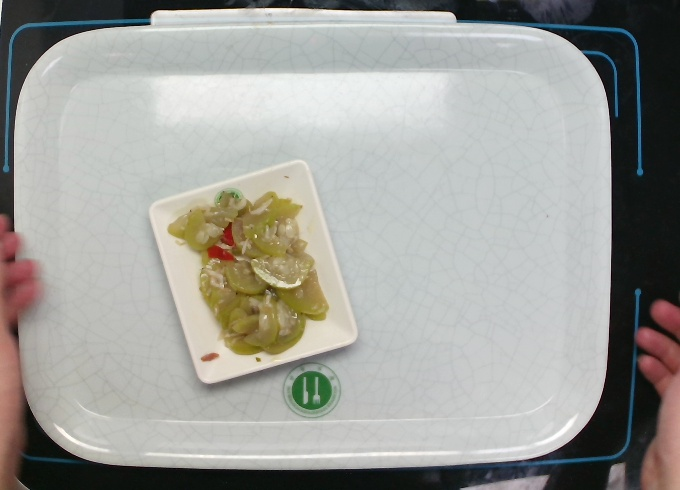WCQzf-Bai_Se_Si_Fang_Die: (139, 161, 363, 387)
